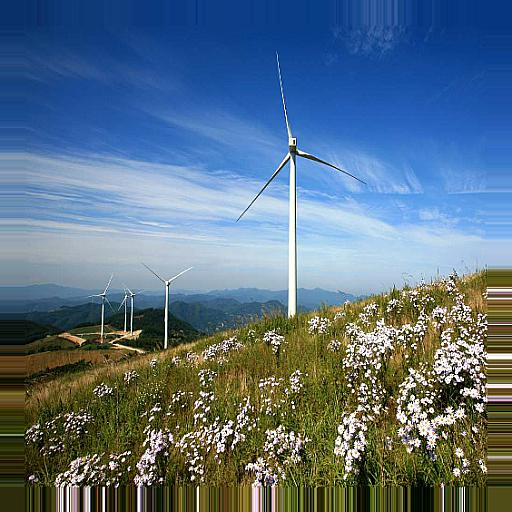wind turbine: (236, 48, 368, 322), (142, 261, 196, 356), (85, 272, 118, 347)
